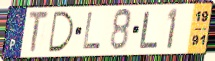1: (165, 7, 179, 51)
8: (108, 7, 134, 54)
D: (47, 11, 75, 54)
L: (138, 10, 160, 50), (81, 11, 103, 51)
T: (27, 9, 50, 55)
